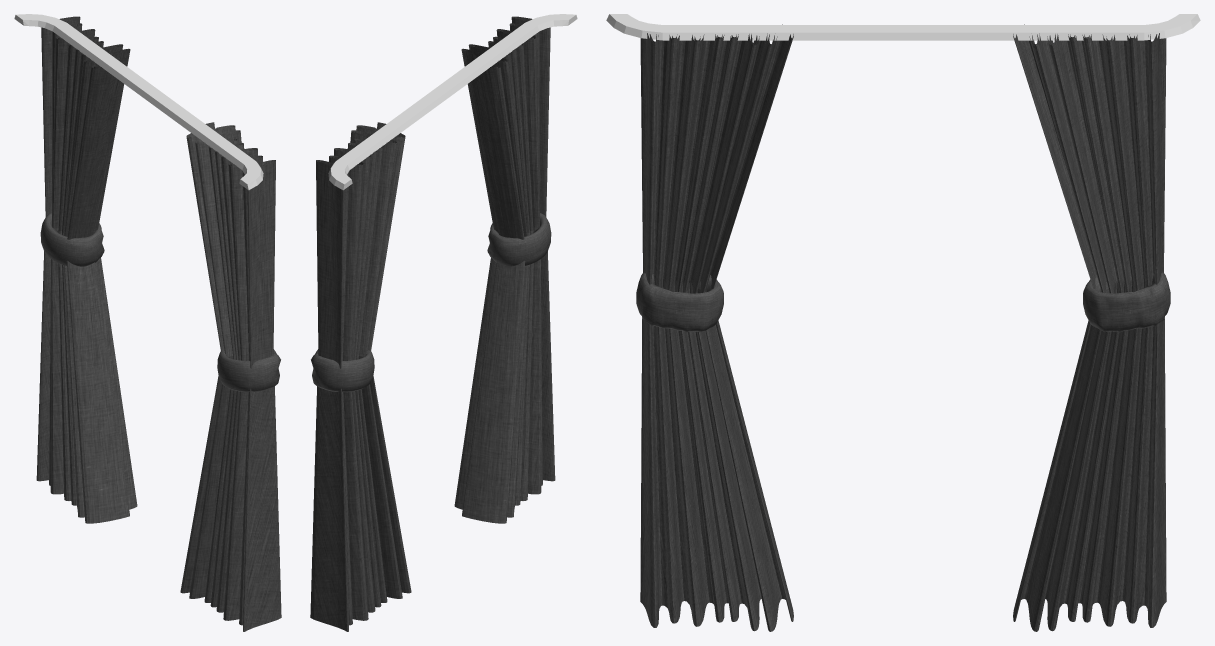
The model's file is curtain.dae.
The picture shows the model from 3 angles, left to right: view 1: azimuth 30°, elevation 25°; view 2: azimuth 150°, elevation 25°; view 3: azimuth 270°, elevation 25°; orthographic projection. The views are drawn at different scales.
Visible parts, largest first — view 1: BezierCircle, Cube, Torus; view 2: BezierCircle, Cube, Torus; view 3: BezierCircle, Cube, Torus.
Part boxes in pixels (x1,y1,x2,y2): BezierCircle: [36, 16, 281, 631]; Cube: [14, 14, 263, 190]; Torus: [40, 213, 280, 392]; BezierCircle: [310, 16, 555, 631]; Cube: [328, 14, 577, 190]; Torus: [311, 213, 551, 392]; BezierCircle: [640, 24, 1166, 631]; Cube: [606, 14, 1200, 40]; Torus: [636, 272, 1170, 332].
Size of the model in its own units: 0.3546 by 2.47 by 2.68.
